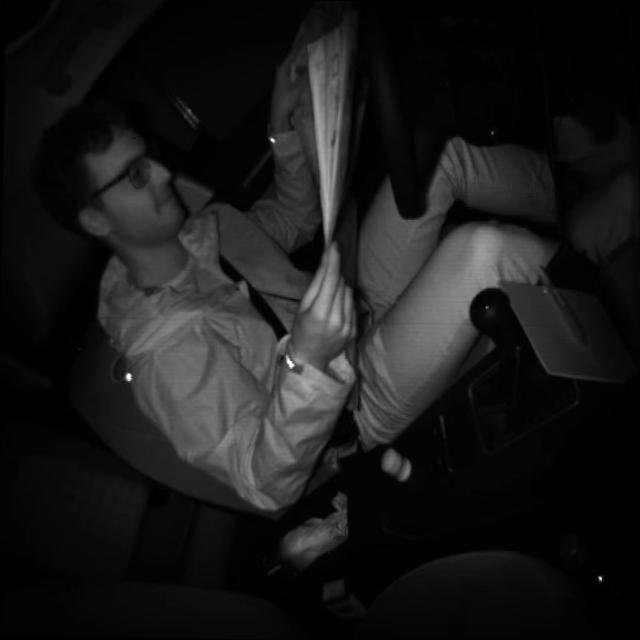pen: (533, 260, 585, 344)
